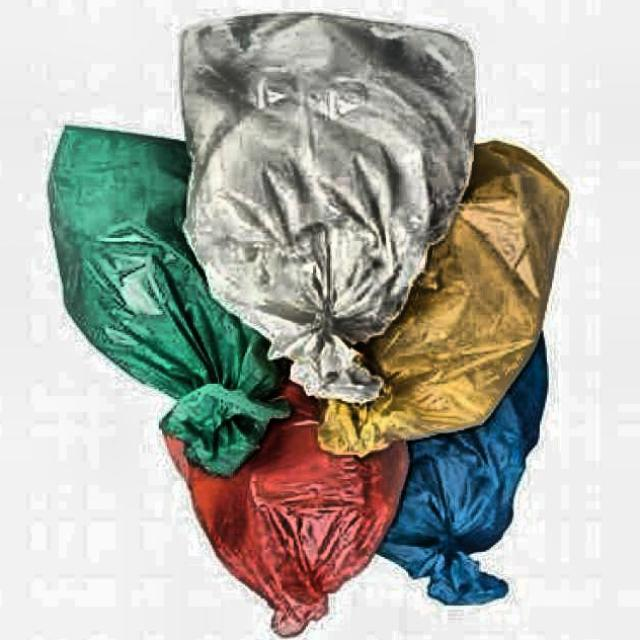plastik: (181, 14, 475, 402), (50, 129, 288, 475), (318, 141, 569, 456), (165, 381, 409, 636), (379, 337, 547, 605)
